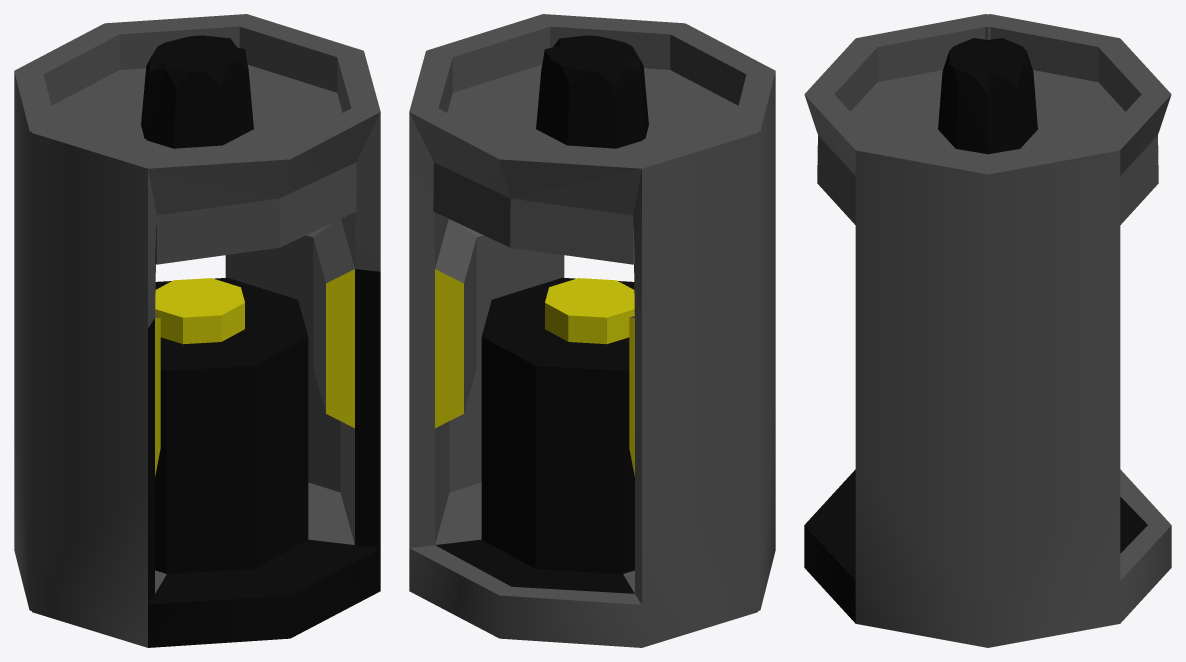
File: Props_Battery.FBX
3 renders of one model, left to right at view 1: azimuth 30°, elevation 25°; view 2: azimuth 150°, elevation 25°; view 3: azimuth 270°, elevation 25°, orthographic.
Visible parts, largest first — view 1: Battery; view 2: Battery; view 3: Battery.
Boxes of the visible parts, x1,y1,x2,y2 form: Battery: (14,14,380,647); Battery: (409,14,775,647); Battery: (804,14,1171,647).
Bounding box in the file's own units: 174 × 259 × 169.
